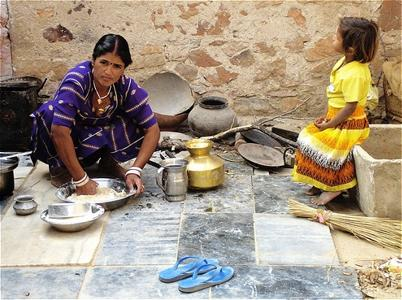person: (29, 34, 161, 201)
